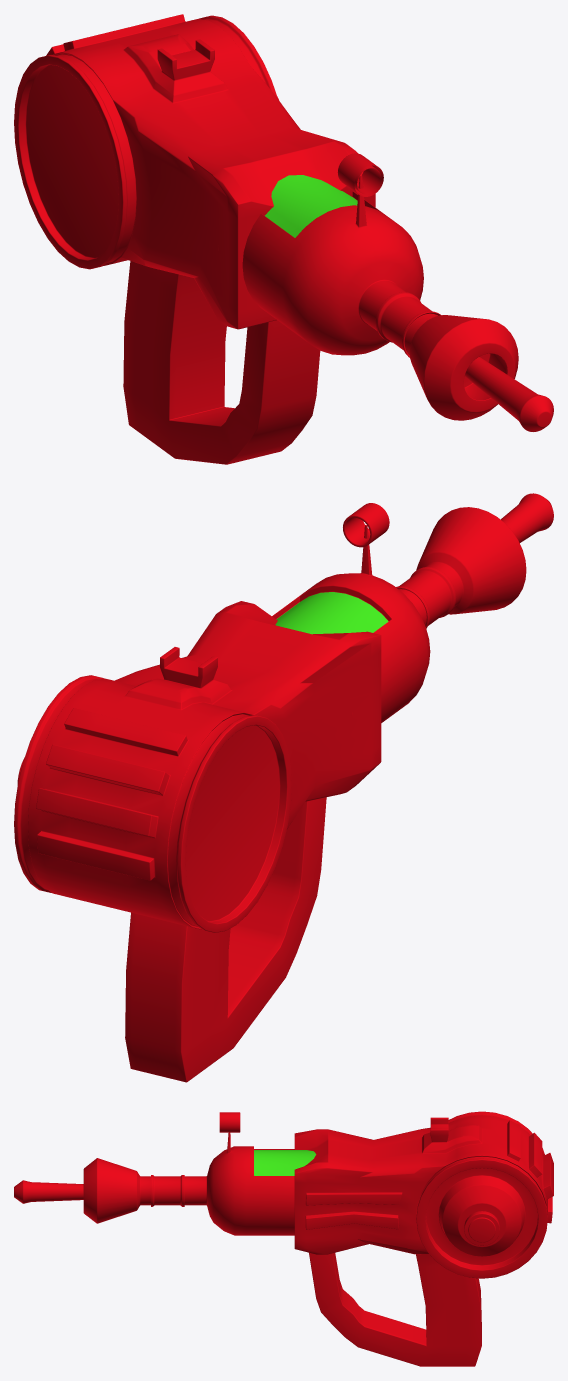
Rendered from Raygun.fbx.
3 renders of one model, top to bottom at view 1: azimuth 30°, elevation 25°; view 2: azimuth 150°, elevation 25°; view 3: azimuth 270°, elevation 25°, orthographic. The views are drawn at different scales.
Parts seen in each view (by area): view 1: Gun; view 2: Gun; view 3: Gun.
Boxes of the visible parts, x1=… form: Gun: x1=14, y1=14, x2=553, y2=464; Gun: x1=14, y1=493, x2=553, y2=1082; Gun: x1=14, y1=1111, x2=553, y2=1366.
Size of the model in its own units: 214 by 411 by 821.
